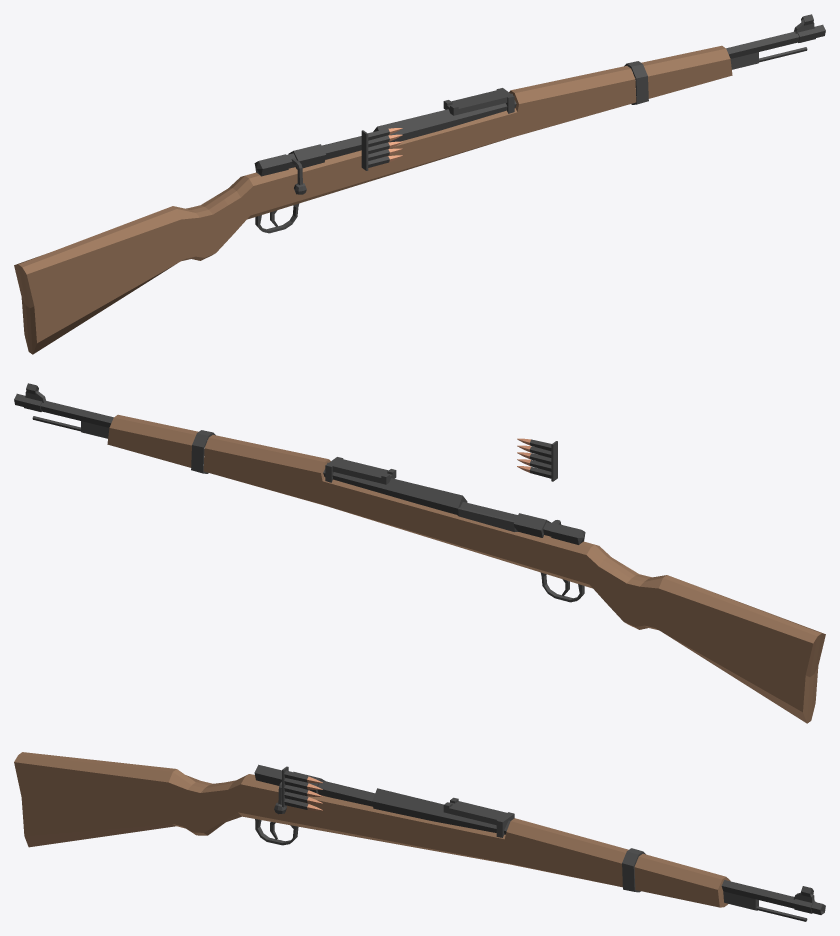
The model's file is kar98k_ios.glb.
The picture shows the model from 3 angles, top to bottom: view 1: azimuth 30°, elevation 25°; view 2: azimuth 150°, elevation 25°; view 3: azimuth 330°, elevation 25°; orthographic projection.
Visible parts, largest first — view 1: Body, Bolt; view 2: Body, Bolt; view 3: Body, Bolt.
Part boxes in pixels (x1,y1,x2,y2): Body: (14, 14, 825, 354); Bolt: (254, 136, 361, 194); Body: (14, 383, 825, 723); Bolt: (460, 502, 585, 544); Body: (14, 752, 825, 921); Bolt: (254, 764, 374, 814).
Bounding box in the file's own units: 1.11 × 0.2358 × 0.1183.
